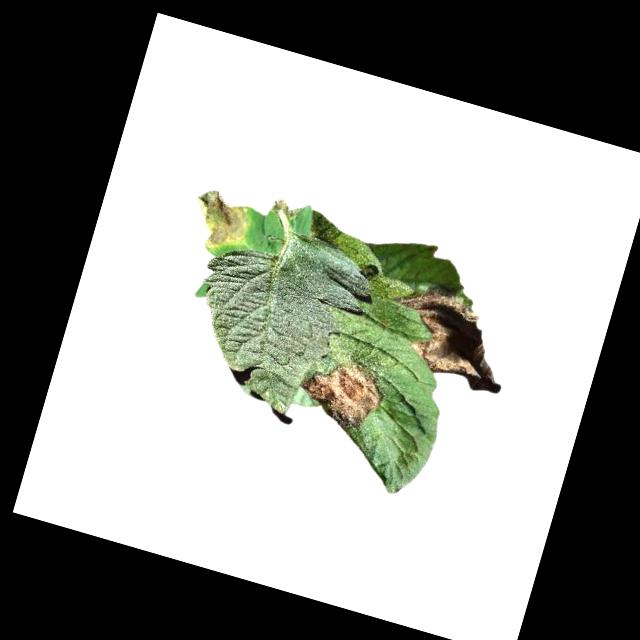Late_blight: (376, 275, 523, 397), (292, 348, 390, 438), (180, 184, 256, 258), (269, 194, 304, 222)
